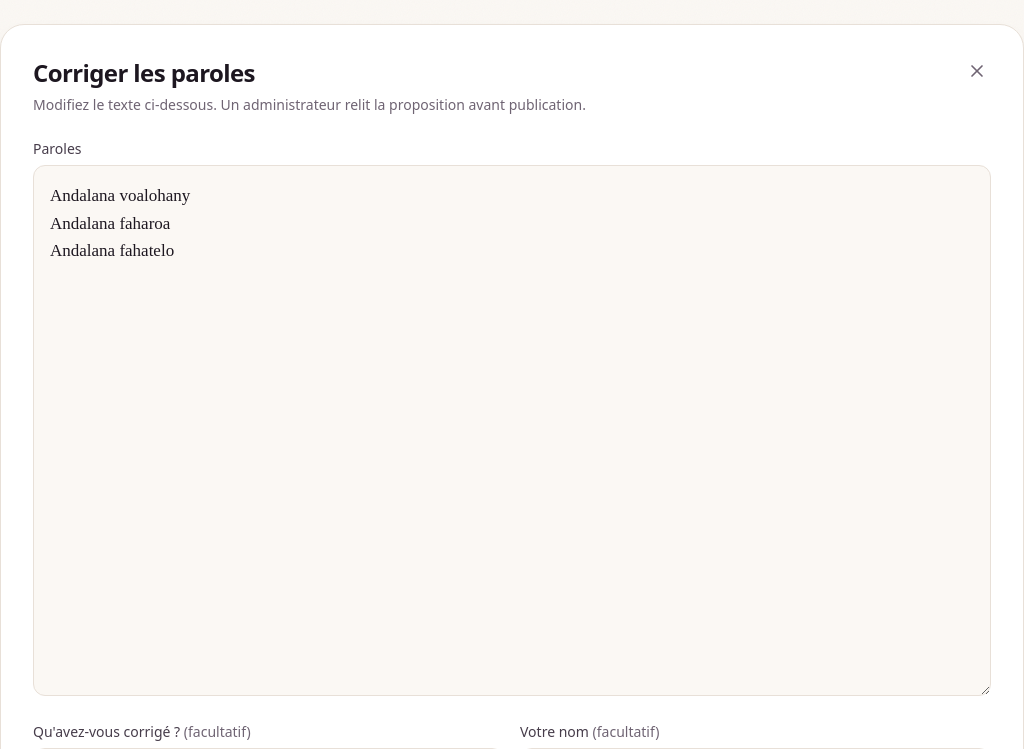
formulaire public de correction › affiche l'erreur renvoyée par l'API
The image size is (1024, 749).
In the text box labelled "Paroles": x=512, y=431 [33,165,991,696], type " voaova"
(page scrolled)
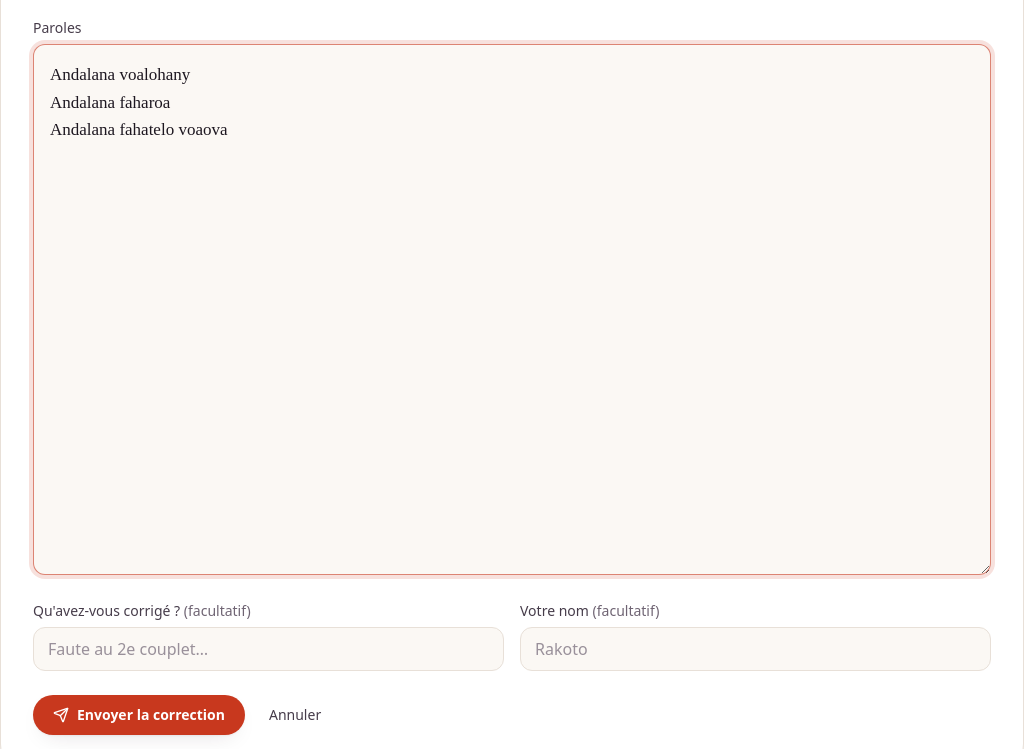
Click the button "Envoyer la correction": x=139, y=715 [33,695,245,735]
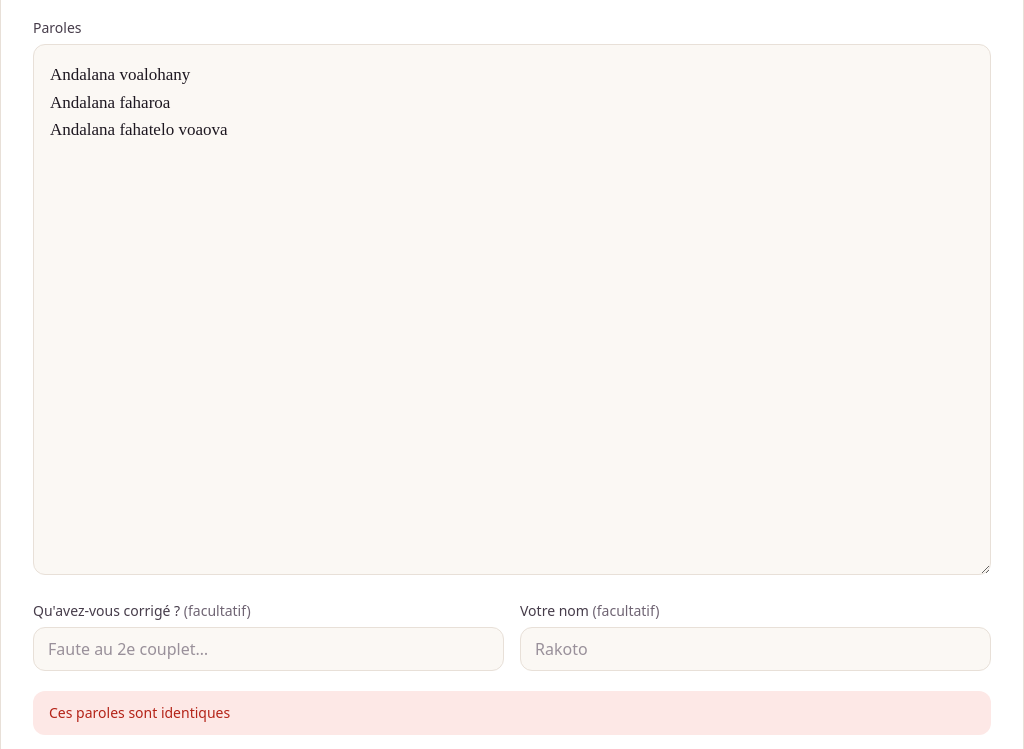
Expected: the message shows "identiques", [49,703,230,722]
